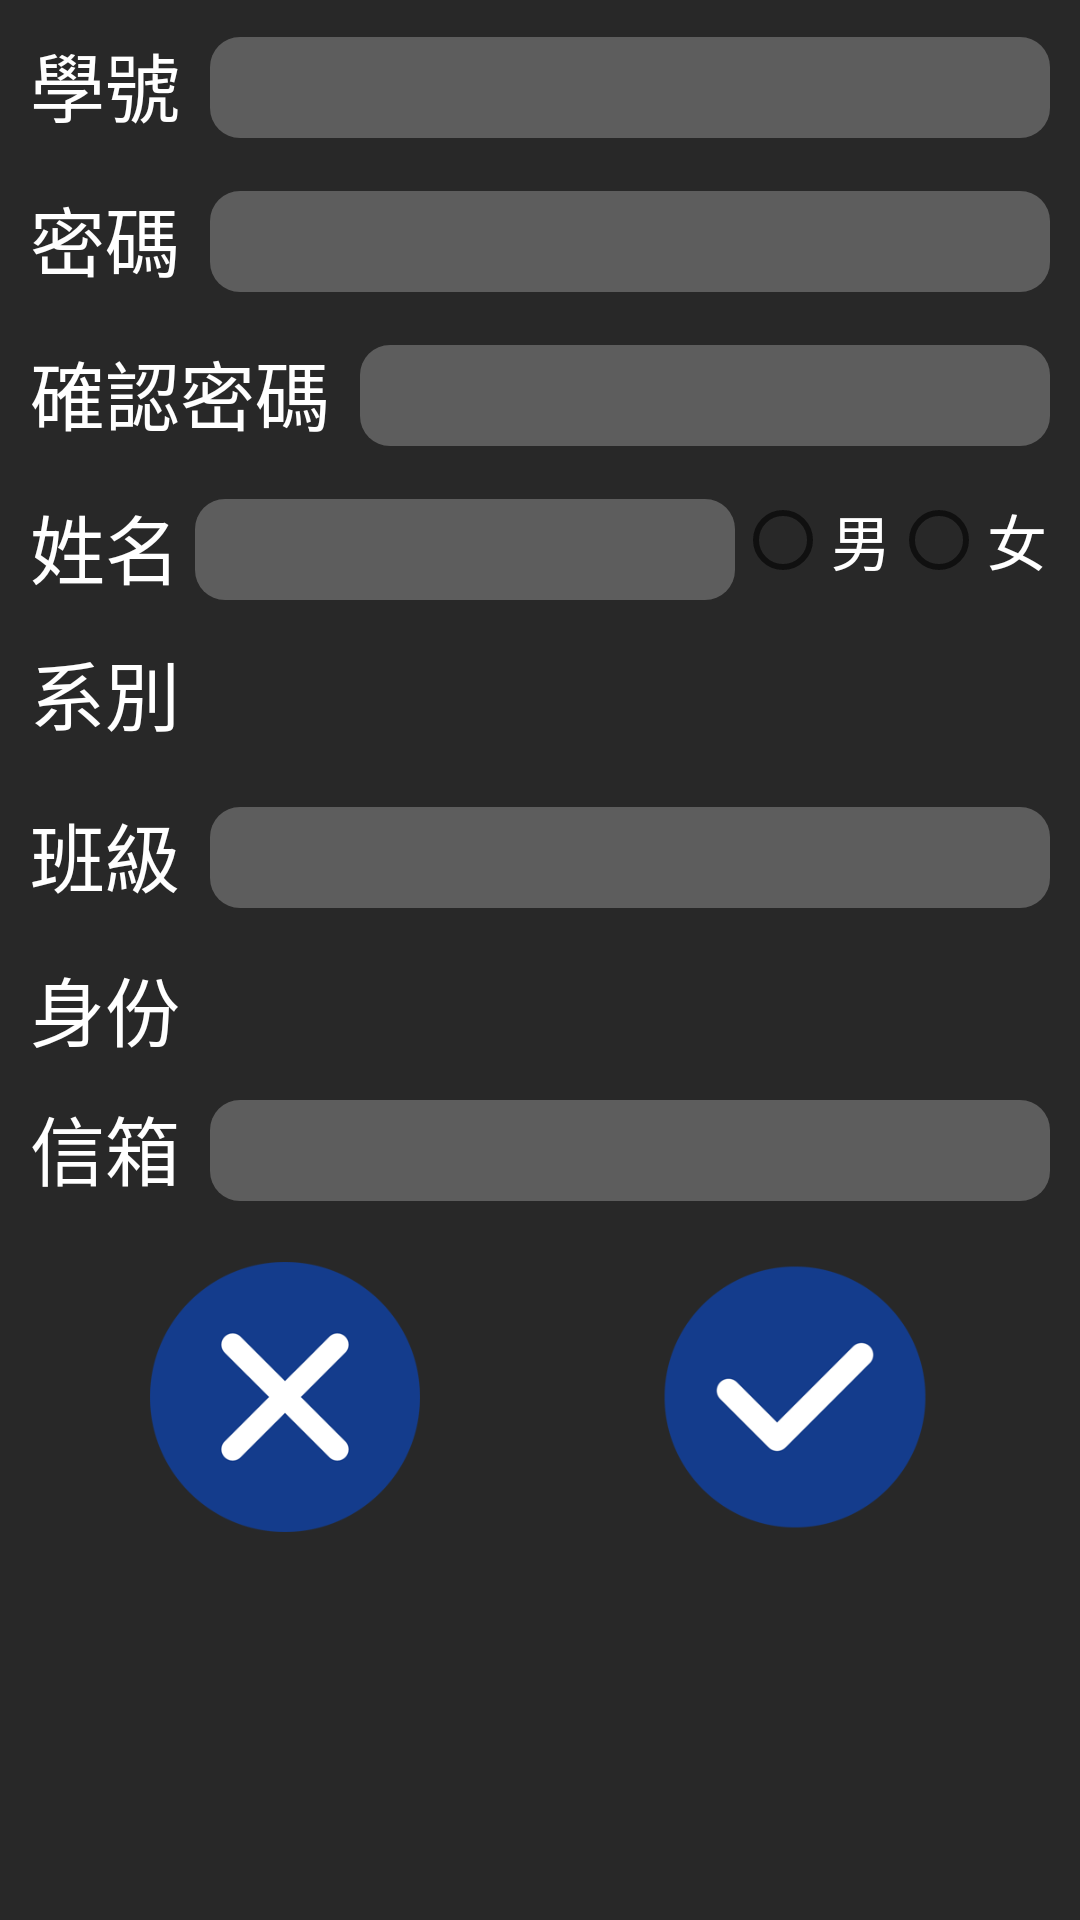

Where icons sit on this 1080w x 1920h app screen, as box=[x1, y1, x2, y2]:
btnconfirm: box=[664, 1266, 926, 1528]
